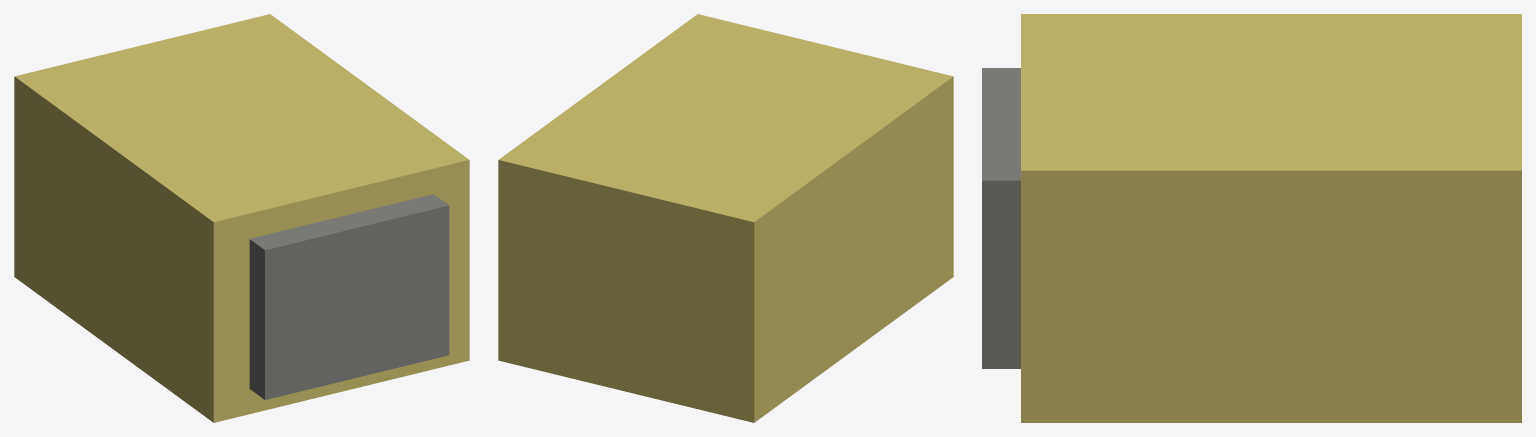
The model's file is sharps-container-low.glb.
3 views of the same model, side by side, from view 1: azimuth 30°, elevation 25°; view 2: azimuth 150°, elevation 25°; view 3: azimuth 270°, elevation 25° (orthographic). The views are drawn at different scales.
Parts seen in each view (by area): view 1: sharps_container, lid; view 2: sharps_container; view 3: sharps_container, lid.
Part boxes in pixels (x1,y1,x2,y2): sharps_container: (14,14,469,422); lid: (249,194,449,399); sharps_container: (498,14,953,422); sharps_container: (1021,14,1521,422); lid: (982,68,1020,368).
Size of the model in its own units: 1 by 0.775 by 1.46.
